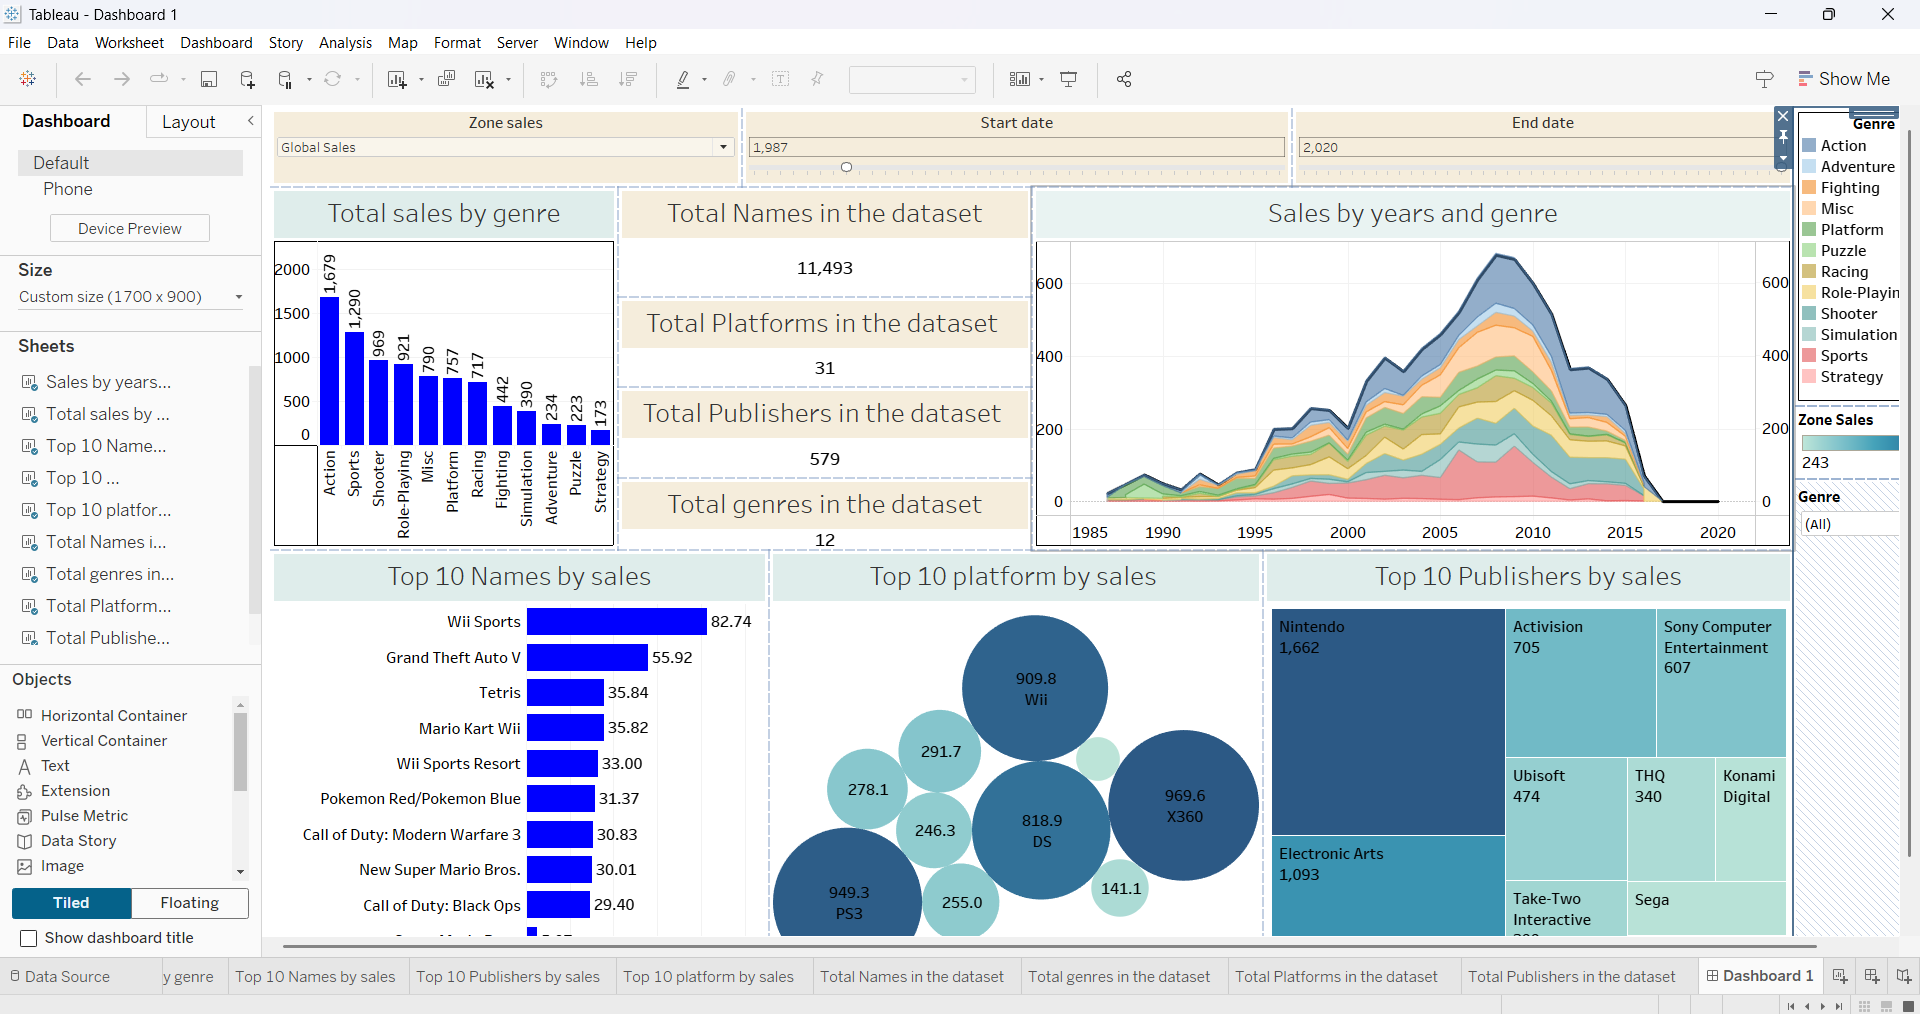

This screenshot's page, from the dashboard's own definition file:
{"tool":"tableau","page":{"name":"Dashboard 1","canvas":[1700,900],"ordinal":0},"visuals":[{"type":"parameter","param":"[Parameters].[Parameter 1]","box":[8,8,472,79]},{"type":"parameter","param":"[Parameters].[Parameter 2]","box":[480,8,550,79]},{"type":"parameter","param":"[Parameters].[Parameter 3]","box":[1030,8,502,79]},{"type":"legend","title":"Sales by years and genre","param":"[federated.06lqhrs0bwwg1d146sxyy1rpsamp].[none:Genre:nk]","box":[1532,8,160,297]},{"type":"worksheet","title":"Total sales by genre","mark":"Automatic","rows":["Calculation_286541592279822336"],"cols":["Genre"],"box":[8,87,348,363]},{"type":"worksheet","title":"Total Names in the dataset","mark":"Automatic","box":[356,87,414,110]},{"type":"worksheet","title":"Sales by years and genre","mark":"Automatic","rows":["Calculation_286541592279822336","Calculation_286541592279822336"],"cols":["Year"],"box":[770,87,762,363]},{"type":"worksheet","title":"Total Platforms in the dataset ","mark":"Automatic","box":[356,197,414,90]},{"type":"worksheet","title":"Total Publishers in the dataset ","mark":"Automatic","box":[356,287,414,91]},{"type":"legend","title":"Top 10 Publishers by sales","param":"[federated.06lqhrs0bwwg1d146sxyy1rpsamp].[sum:Calculation_286541592279822336:qk]","box":[1532,305,160,73]},{"type":"worksheet","title":"Total genres in the dataset","mark":"Automatic","box":[356,378,414,72]},{"type":"filter","title":"Sales by years and genre","param":"[federated.06lqhrs0bwwg1d146sxyy1rpsamp].[none:Genre:nk]","box":[1536,386,168,61]},{"type":"worksheet","title":"Top 10 Names by sales","mark":"Automatic","rows":["Name"],"cols":["Calculation_286541592279822336"],"box":[8,450,499,442]},{"type":"worksheet","title":"Top 10 platform by sales ","mark":"Circle","box":[507,450,494,442]},{"type":"worksheet","title":"Top 10 Publishers by sales","mark":"Automatic","box":[1001,450,531,442]}]}

Visuals, with their boxes on the page's 1700x900 design canvas (x1, y1, x2, y2). These are canvas units, not pixel positions in the 1920x1014 screenshot, which may show the page scaled, cropped or inside an application window:
parameter: box=[8, 8, 480, 87]
parameter: box=[480, 8, 1030, 87]
parameter: box=[1030, 8, 1532, 87]
"Sales by years and genre" legend: box=[1532, 8, 1692, 305]
"Total sales by genre" worksheet: box=[8, 87, 356, 450]
"Total Names in the dataset" worksheet: box=[356, 87, 770, 197]
"Sales by years and genre" worksheet: box=[770, 87, 1532, 450]
"Total Platforms in the dataset " worksheet: box=[356, 197, 770, 287]
"Total Publishers in the dataset " worksheet: box=[356, 287, 770, 378]
"Top 10 Publishers by sales" legend: box=[1532, 305, 1692, 378]
"Total genres in the dataset" worksheet: box=[356, 378, 770, 450]
"Sales by years and genre" filter: box=[1536, 386, 1704, 447]
"Top 10 Names by sales" worksheet: box=[8, 450, 507, 892]
"Top 10 platform by sales " worksheet (Circle marks): box=[507, 450, 1001, 892]
"Top 10 Publishers by sales" worksheet: box=[1001, 450, 1532, 892]
